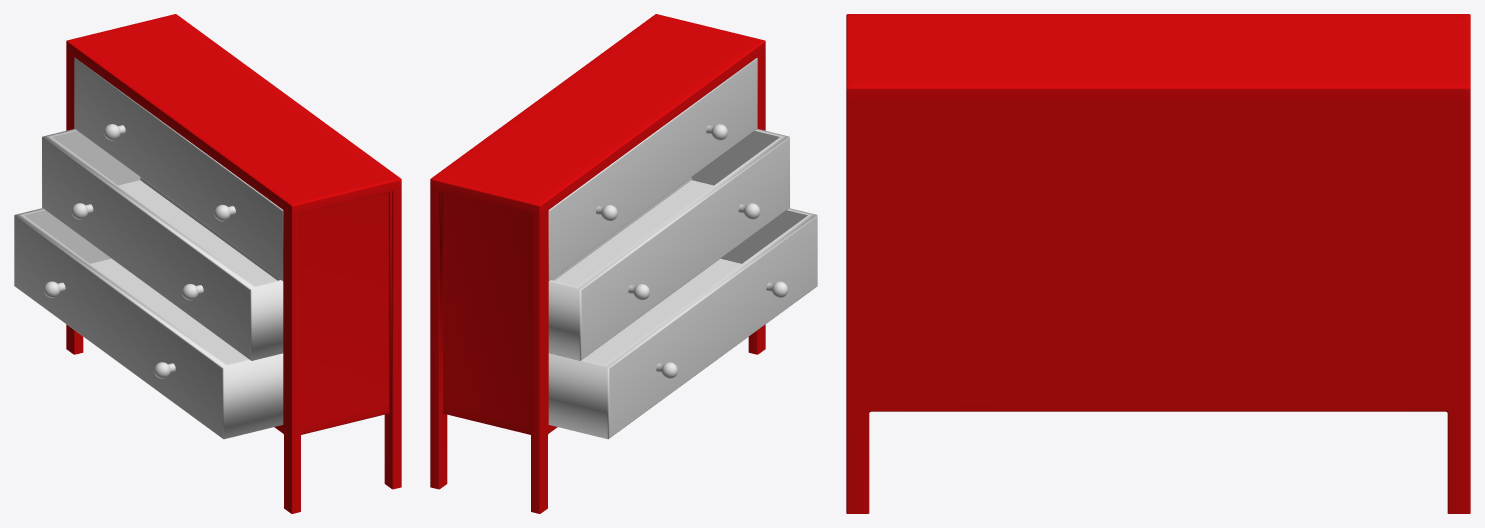
Rendered from drawerrrb.fbx.
The picture shows the model from 3 angles, left to right: view 1: azimuth 30°, elevation 25°; view 2: azimuth 150°, elevation 25°; view 3: azimuth 270°, elevation 25°; orthographic projection. The views are drawn at different scales.
Visible parts, largest first — view 1: dresser_body, dresser_dresser3, dresser_dresser2, dresser_dresser1; view 2: dresser_body, dresser_dresser3, dresser_dresser2, dresser_dresser1; view 3: dresser_body.
Boxes of the visible parts, left/top/right/bottom form: dresser_body: left=66, top=14, right=401, bottom=513; dresser_dresser3: left=14, top=208, right=283, bottom=439; dresser_dresser2: left=42, top=129, right=283, bottom=360; dresser_dresser1: left=74, top=58, right=283, bottom=281; dresser_body: left=430, top=14, right=765, bottom=513; dresser_dresser3: left=548, top=208, right=817, bottom=439; dresser_dresser2: left=548, top=129, right=789, bottom=360; dresser_dresser1: left=548, top=58, right=757, bottom=281; dresser_body: left=846, top=14, right=1470, bottom=513.
Bounding box in the file's own units: 77.05 × 120 × 160.
